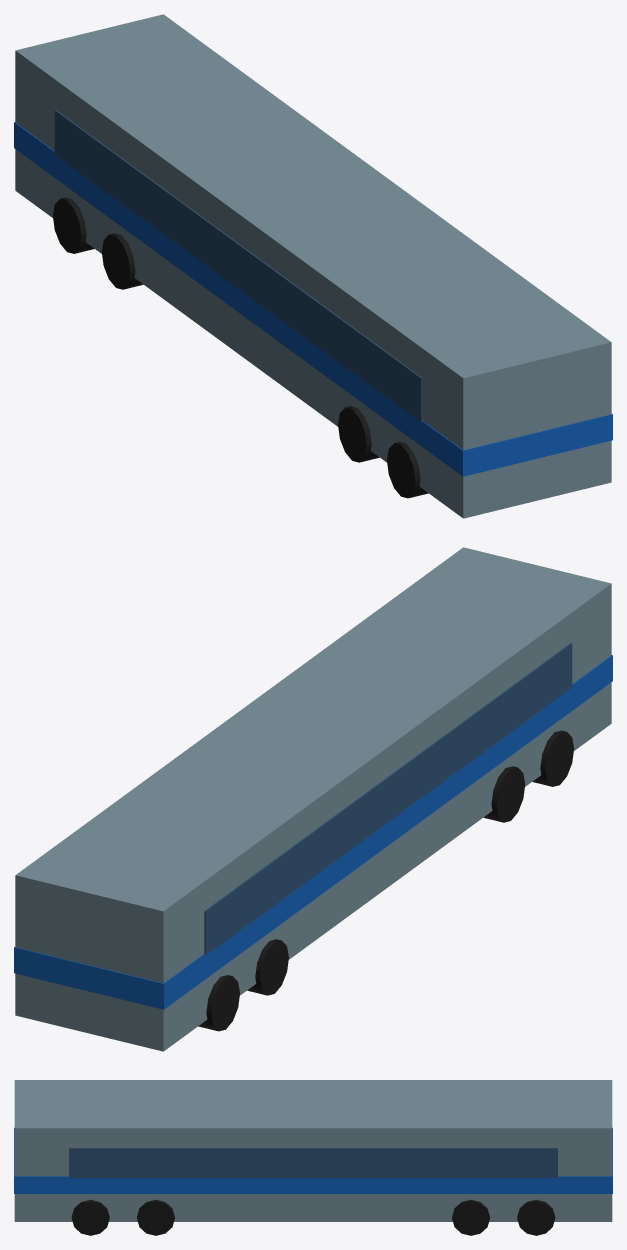
File: metro_train_car.glb
The picture shows the model from 3 angles, top to bottom: view 1: azimuth 30°, elevation 25°; view 2: azimuth 150°, elevation 25°; view 3: azimuth 270°, elevation 25°; orthographic projection. The views are drawn at different scales.
Bounding box in the file's own units: 4.5 × 4.3 × 22.05.
